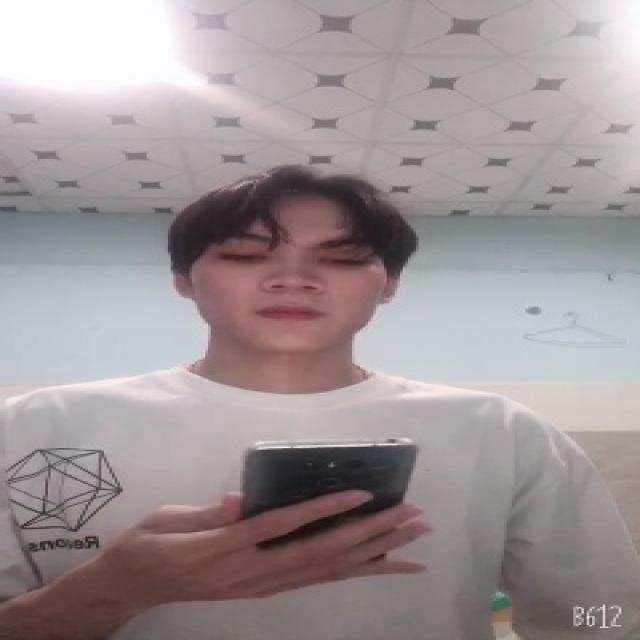Phone: (238, 432, 417, 571)
